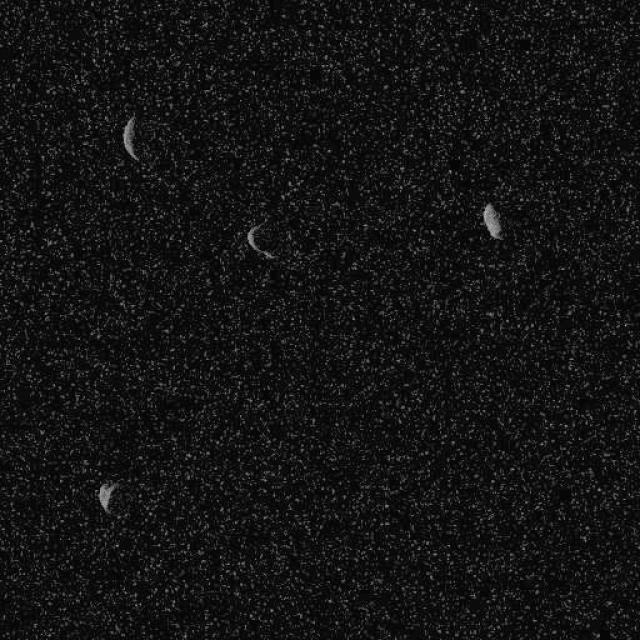D2: (245, 221, 276, 260), (121, 114, 140, 162), (96, 478, 118, 514), (482, 201, 502, 240)
